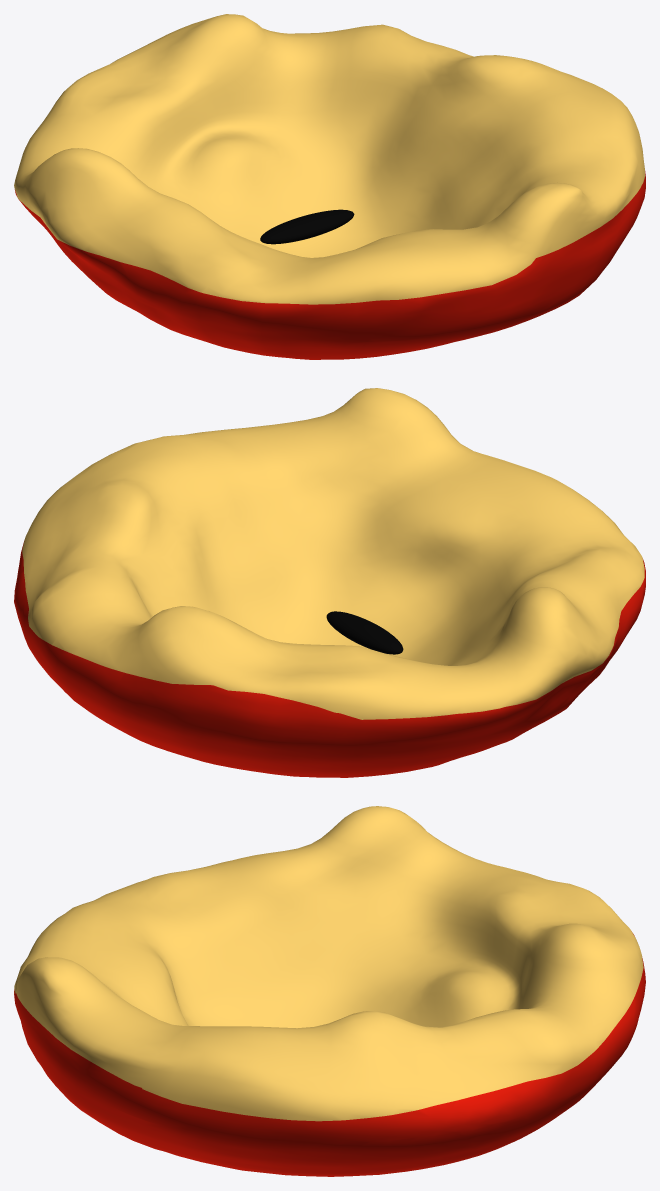
File: Apple.fbx
3 renders of one model, top to bottom at view 1: azimuth 30°, elevation 25°; view 2: azimuth 150°, elevation 25°; view 3: azimuth 270°, elevation 25°, orthographic. The views are drawn at different scales.
Visible parts, largest first — view 1: Apple; view 2: Apple; view 3: Apple.
Part boxes in pixels (left/top/right/bottom): Apple: left=14, top=14, right=645, bottom=359; Apple: left=14, top=388, right=645, bottom=777; Apple: left=14, top=806, right=645, bottom=1176.
Bounding box in the file's own units: 513 × 177 × 505.
